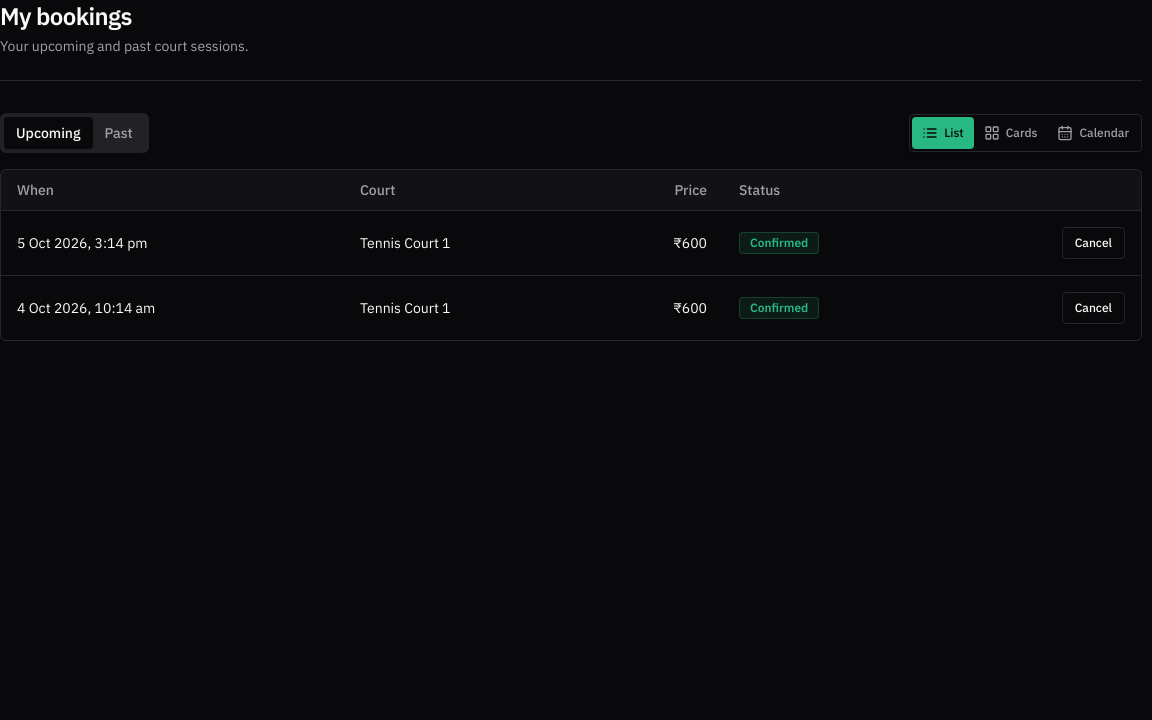
Test: bookings page › keeps the dialog open and shows the server message when cancelling fails
The image size is (1152, 720).
Click the button with aria-label "Cancel Tennis Court 1": (1093, 242) [1062,226,1125,258]
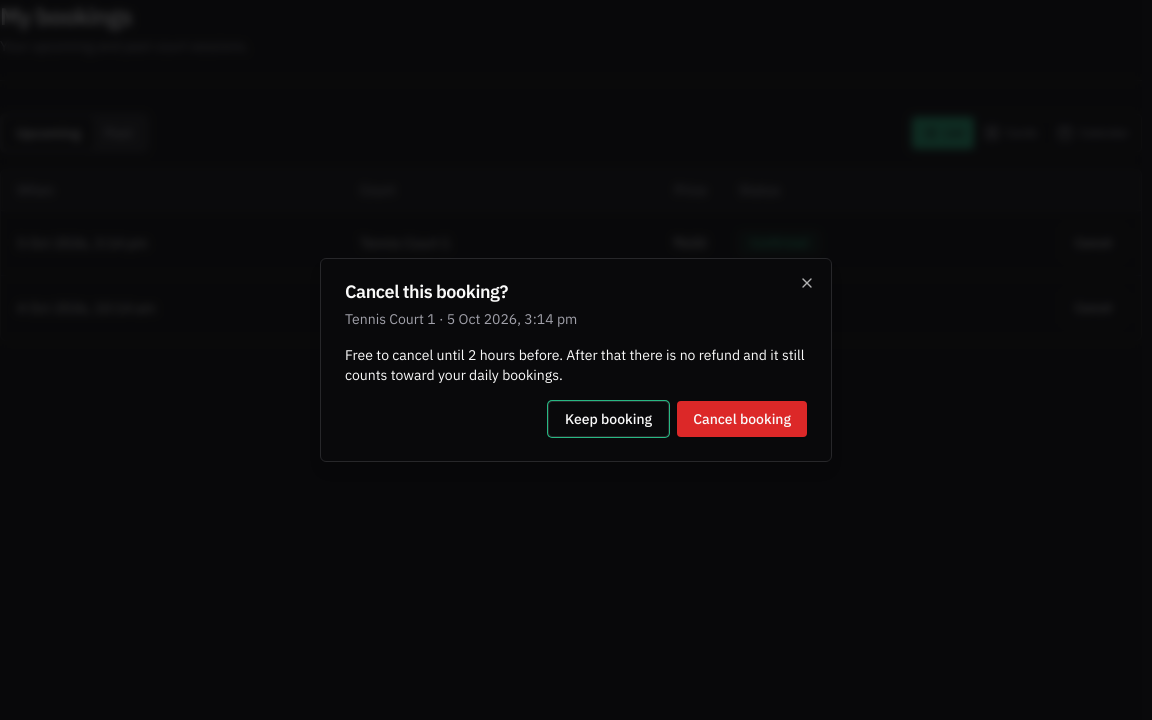
Click the button "Cancel booking": (742, 419) [677,401,807,437]
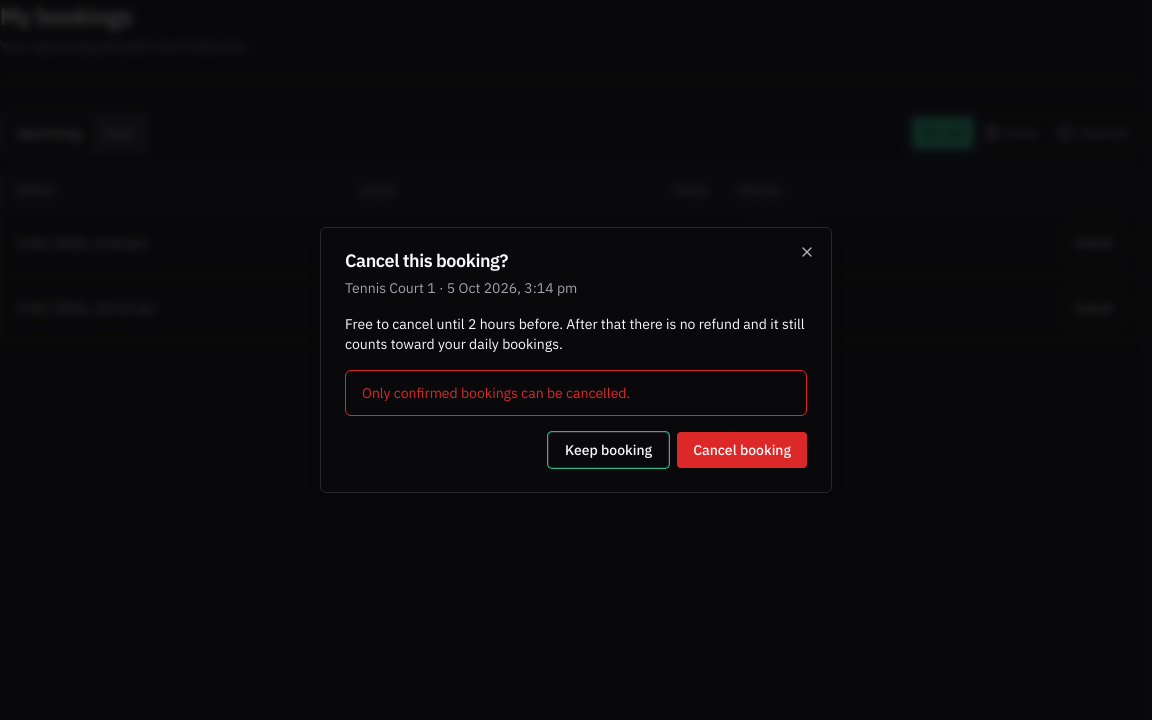
Result: the dialog shows "Only confirmed bookings can be cancelled." at [362,384,630,402]
